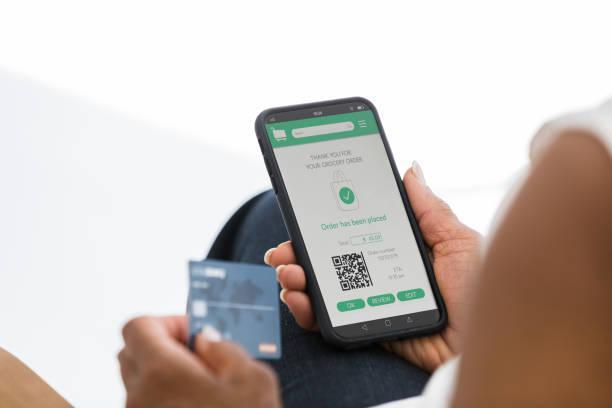qr_code: (332, 251, 374, 292)
